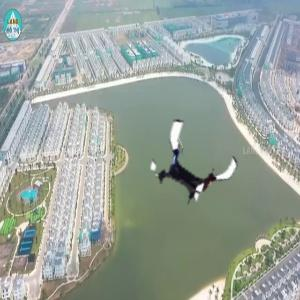drone: (151, 122, 240, 211)
